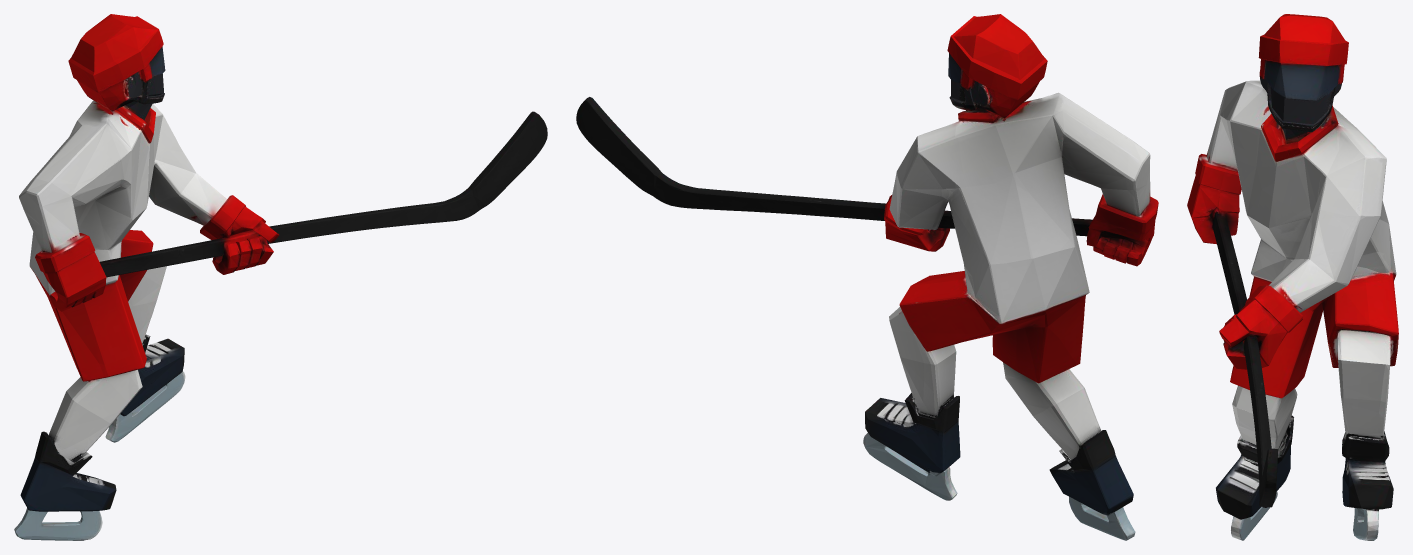
Rendered from player.glb.
3 views of the same model, side by side, from view 1: azimuth 30°, elevation 25°; view 2: azimuth 150°, elevation 25°; view 3: azimuth 270°, elevation 25° (orthographic). The views are drawn at different scales.
Visible parts, largest first — view 1: player; view 2: player; view 3: player.
Boxes of the visible parts, left/top/right/bottom form: player: left=14, top=14, right=547, bottom=540; player: left=576, top=14, right=1158, bottom=540; player: left=1187, top=14, right=1398, bottom=540.
Bounding box in the file's own units: 2.87 × 2.5 × 0.859.
Materials: 1 (1 with a texture image).
